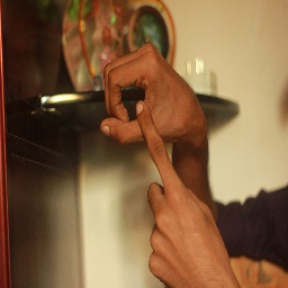Q: (97, 40, 204, 238)
